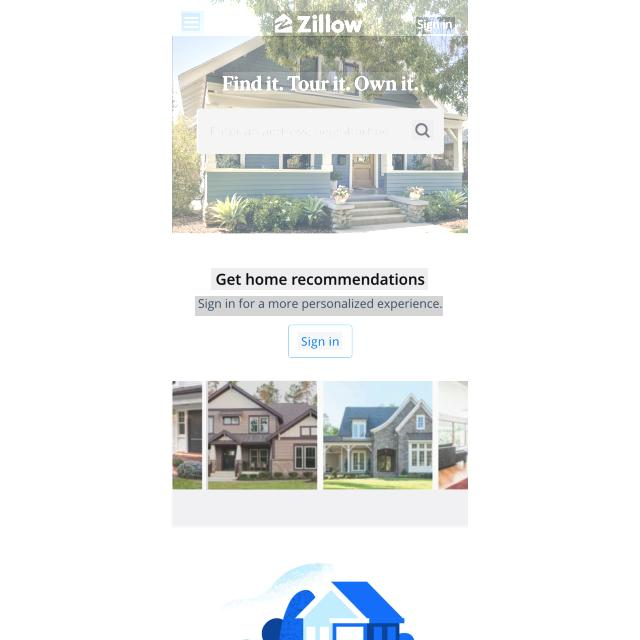CheckBox: (287, 322, 355, 360), (416, 17, 455, 34)
CheckedTextView: (198, 108, 444, 154)
Input field: (195, 296, 443, 316)
Switch: (171, 382, 468, 528)
bag: (172, 0, 468, 36)
breadcrumbs: (211, 268, 428, 290)
card: (173, 0, 468, 234)
carousel: (412, 120, 434, 140), (182, 13, 200, 31)
copy: (206, 380, 317, 492), (322, 381, 432, 492)
data feed: (298, 332, 342, 350)
date picker: (273, 11, 364, 37)
decoration: (181, 11, 204, 34)
footer: (209, 122, 401, 141)
image: (223, 72, 419, 94)
